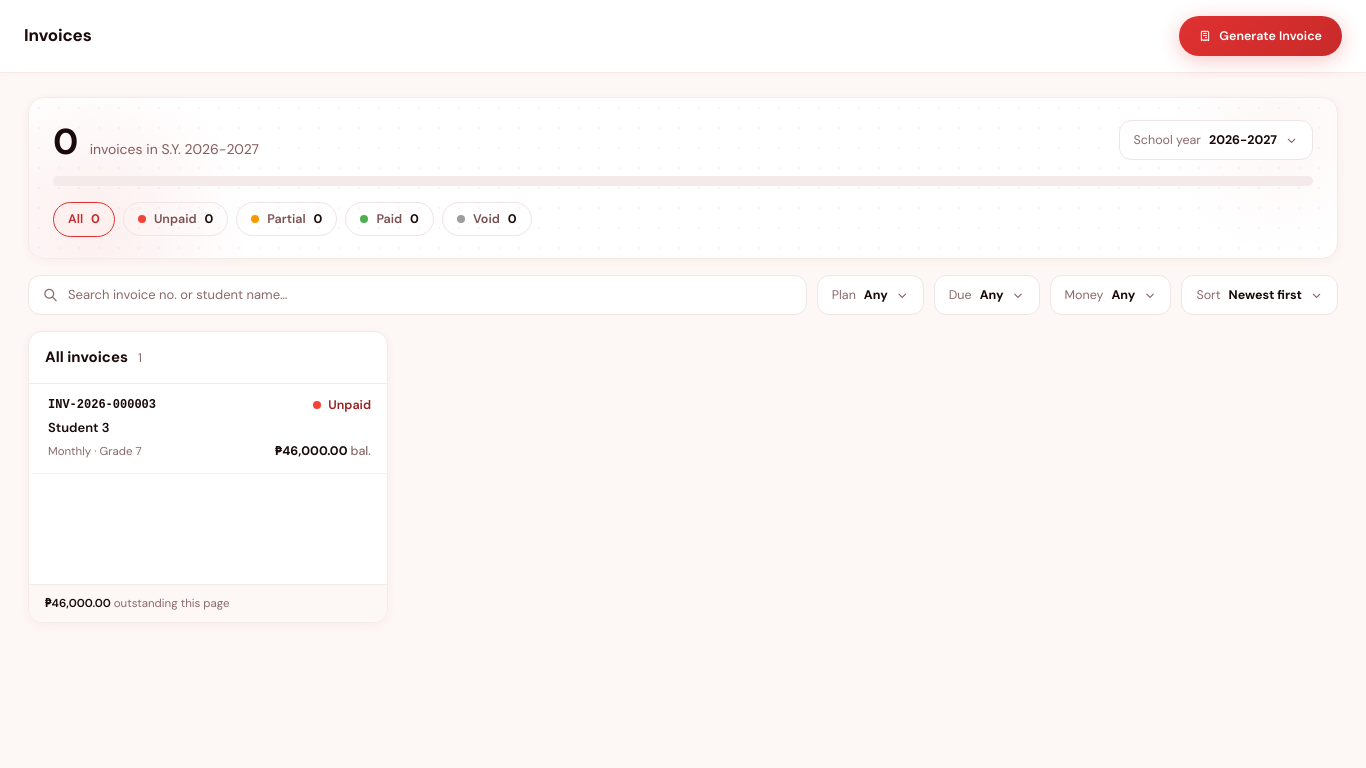
Void and re-issue › offers Void on an invoice nobody has paid
The width and height of the screenshot is (1366, 768).
What coordinates should you click on to do the following:
click the text "INV-2026-000003"
I would click on:
 (102, 405)
Its box is [48,396,156,414].
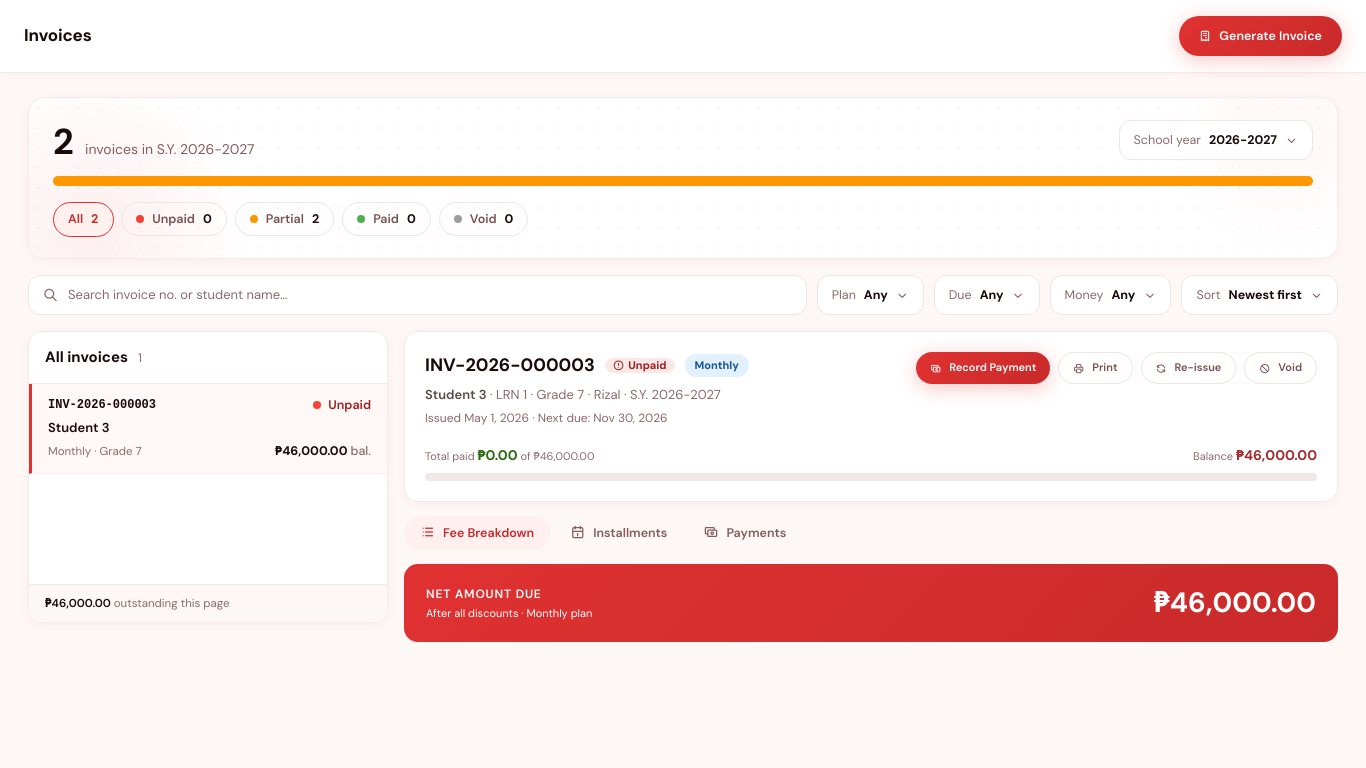
Result: the button "Void" is shown at [1244,352,1317,384]
